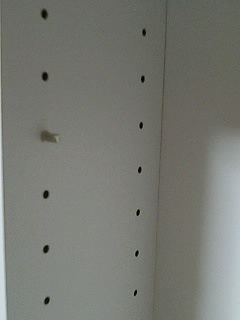hole: (39, 71, 52, 86), (39, 8, 51, 23), (43, 243, 52, 256), (135, 166, 144, 178), (43, 295, 52, 307), (141, 28, 149, 41), (134, 208, 143, 219), (139, 75, 147, 87), (42, 189, 50, 201), (133, 248, 141, 259), (138, 121, 146, 131), (132, 288, 140, 298)
